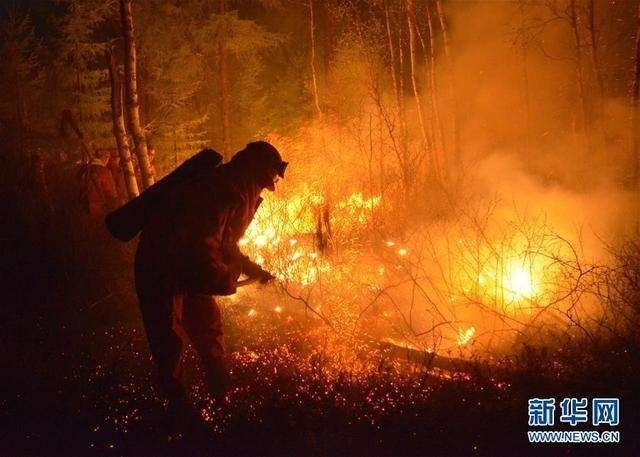fire: (237, 182, 386, 285), (478, 243, 550, 310), (451, 320, 481, 354)
